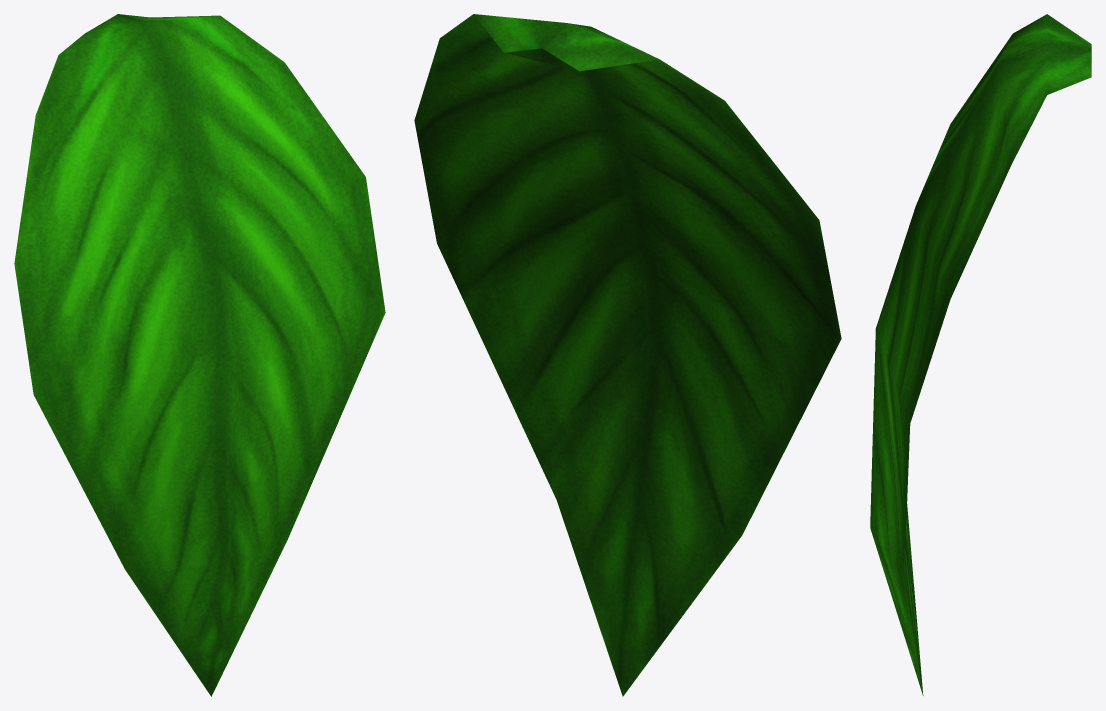
The model's file is Leaf_Big.FBX.
The picture shows the model from 3 angles, left to right: view 1: azimuth 30°, elevation 25°; view 2: azimuth 150°, elevation 25°; view 3: azimuth 270°, elevation 25°; orthographic projection. The views are drawn at different scales.
Visible parts, largest first — view 1: Leaf_Big; view 2: Leaf_Big; view 3: Leaf_Big.
Boxes of the visible parts, x1=… form: Leaf_Big: x1=14, y1=14, x2=385, y2=696; Leaf_Big: x1=414, y1=14, x2=841, y2=696; Leaf_Big: x1=870, y1=14, x2=1091, y2=695.
Size of the model in its own units: 628 by 1078 by 334.
